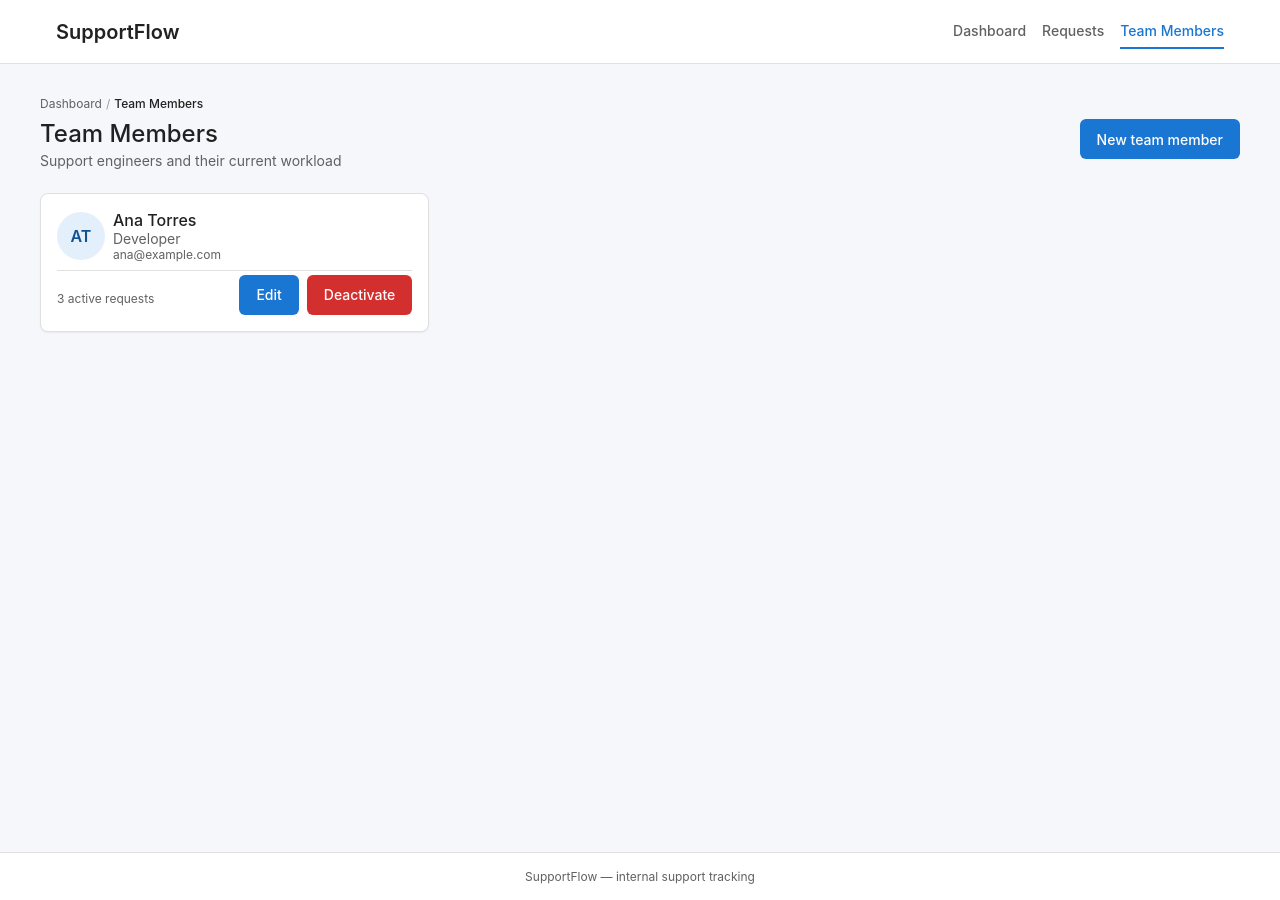
Test: TeamMembers › deactivating a member › deactivates the member and updates the UI on confirm
Click the button "Deactivate" at (360, 294), box [307,274,412,314]
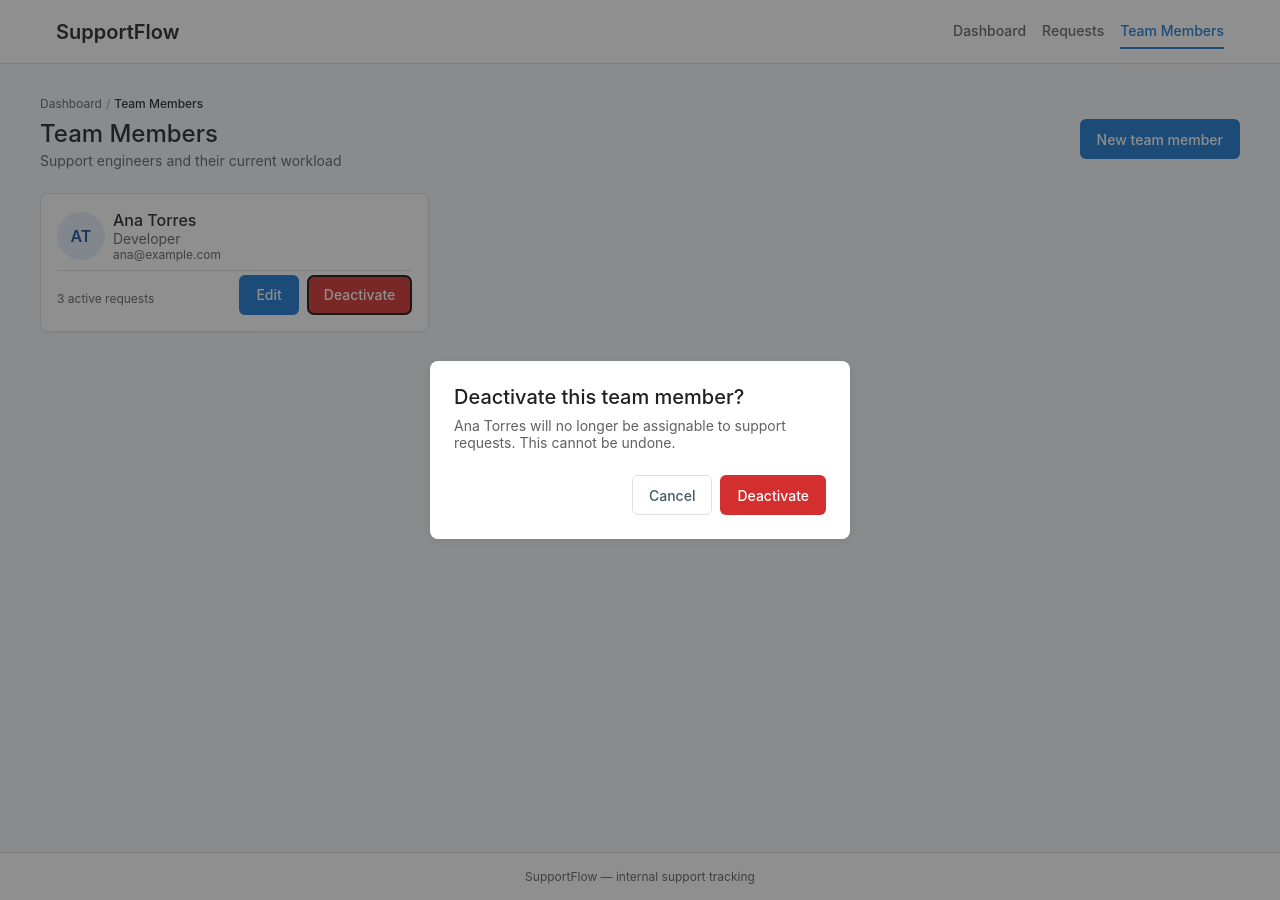
Click the button "Deactivate" at (773, 495), box [720,475,826,515]
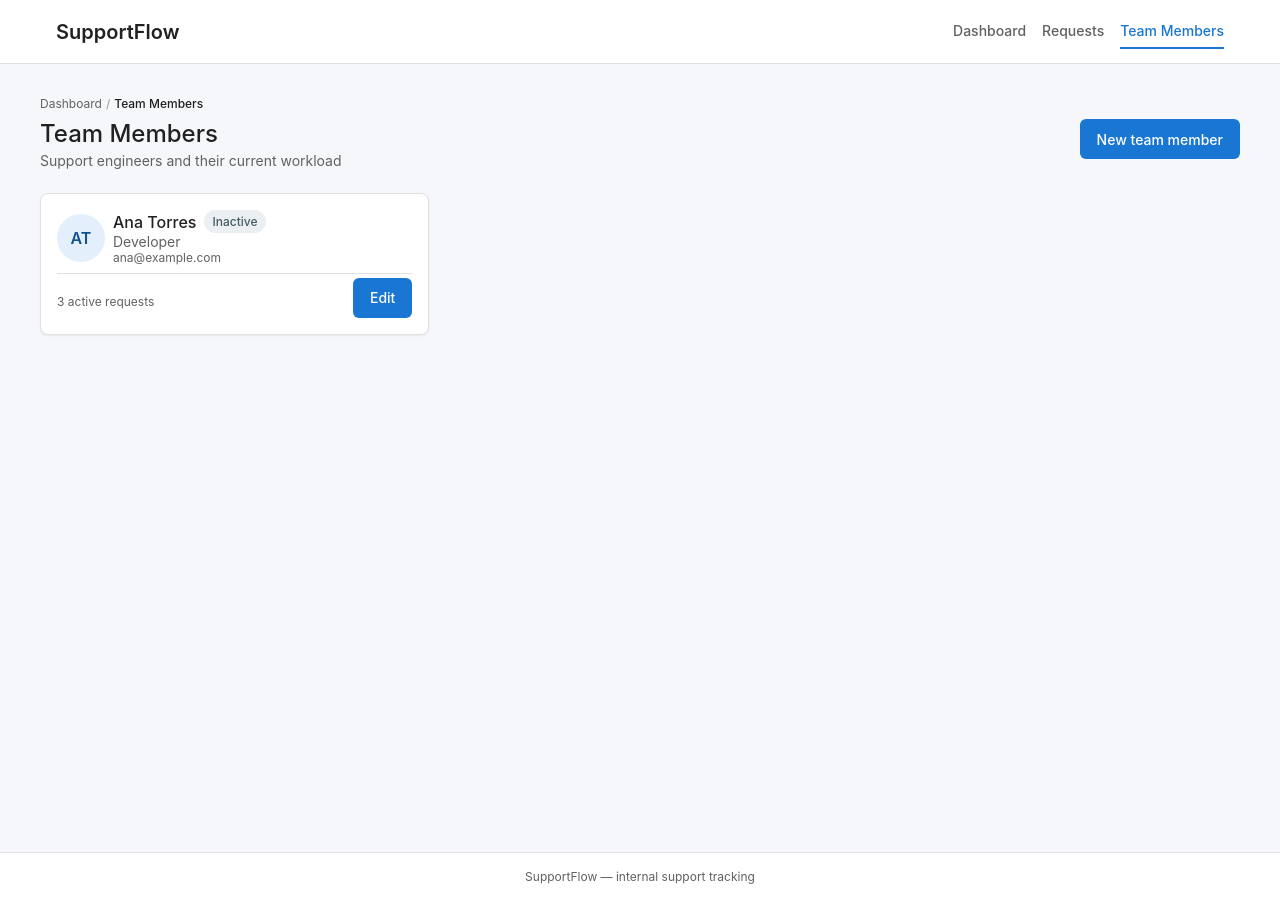
Now the text "Inactive" is shown, box [204,210,266,233]
Now the button "Deactivate" is gone
